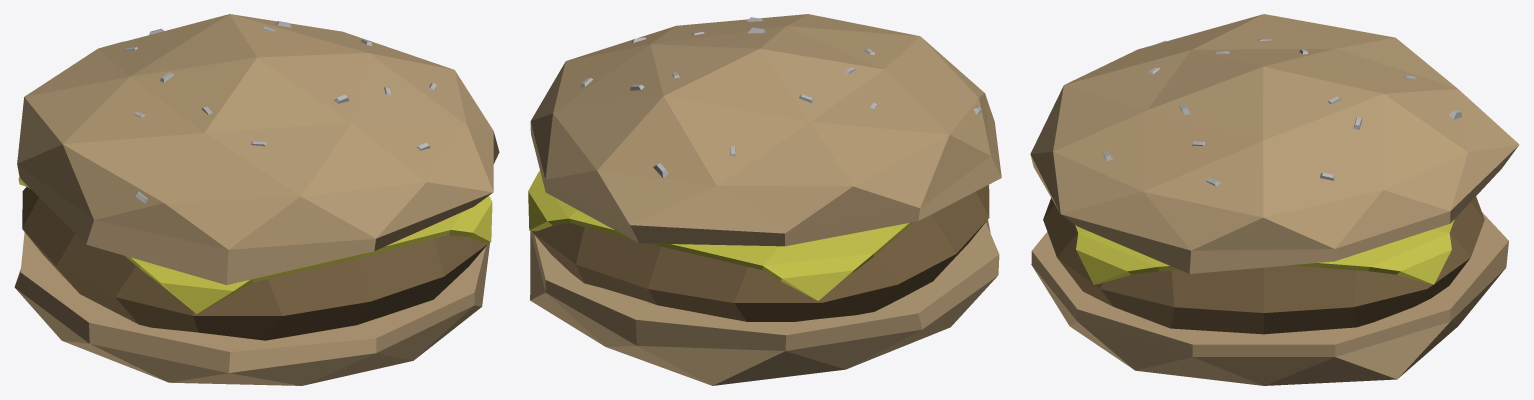
Rendered from Burger_Cheese.glb.
The picture shows the model from 3 angles, left to right: view 1: azimuth 30°, elevation 25°; view 2: azimuth 150°, elevation 25°; view 3: azimuth 270°, elevation 25°; orthographic projection. The views are drawn at different scales.
Parts seen in each view (by area): view 1: Burger; view 2: Burger; view 3: Burger.
Boxes of the visible parts, x1,y1,x2,y2 form: Burger: [14, 14, 499, 385]; Burger: [528, 14, 1001, 385]; Burger: [1030, 14, 1519, 385].
Size of the model in its own units: 1.48 by 0.9653 by 1.58.
